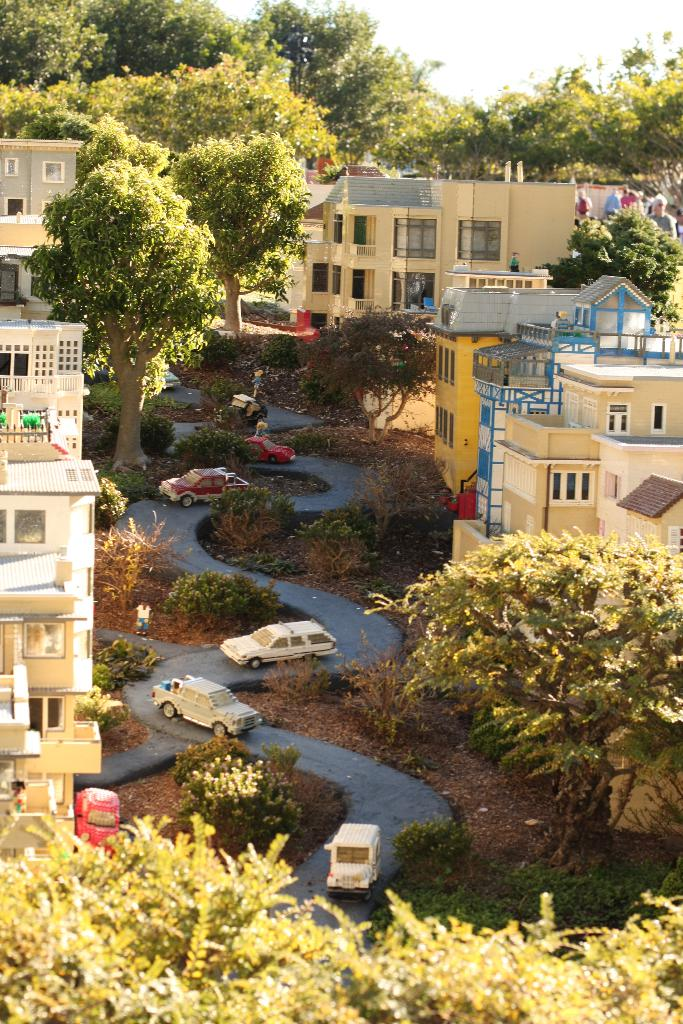Tree: (0, 0, 682, 469), (392, 497, 678, 862)
